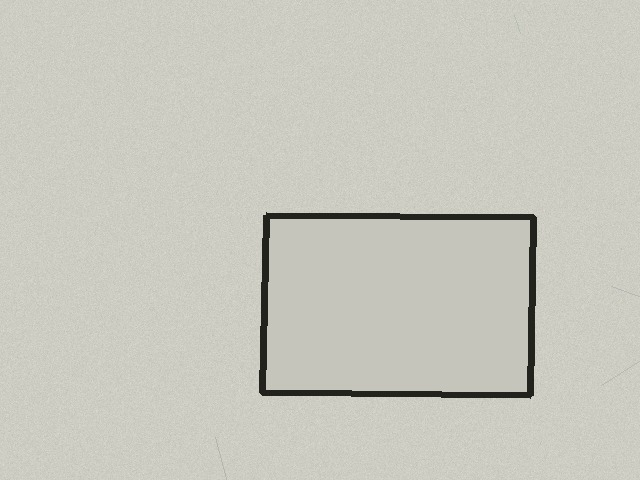parking_area: (262, 215, 533, 395)
